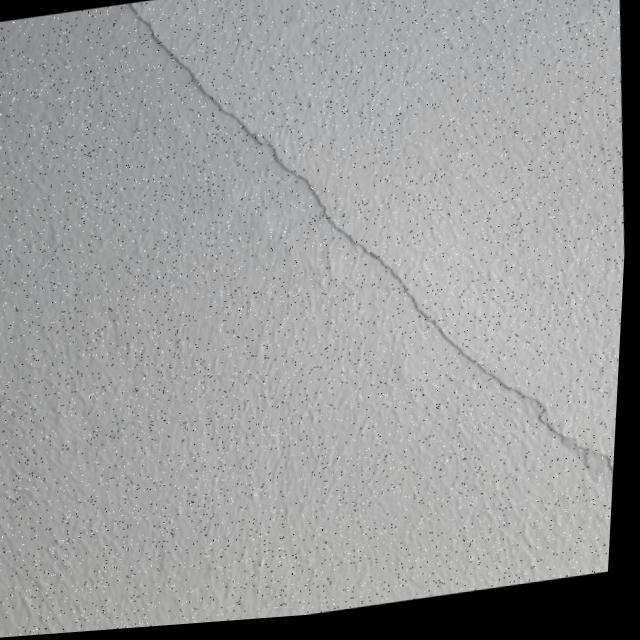Crack: (95, 0, 640, 585)
